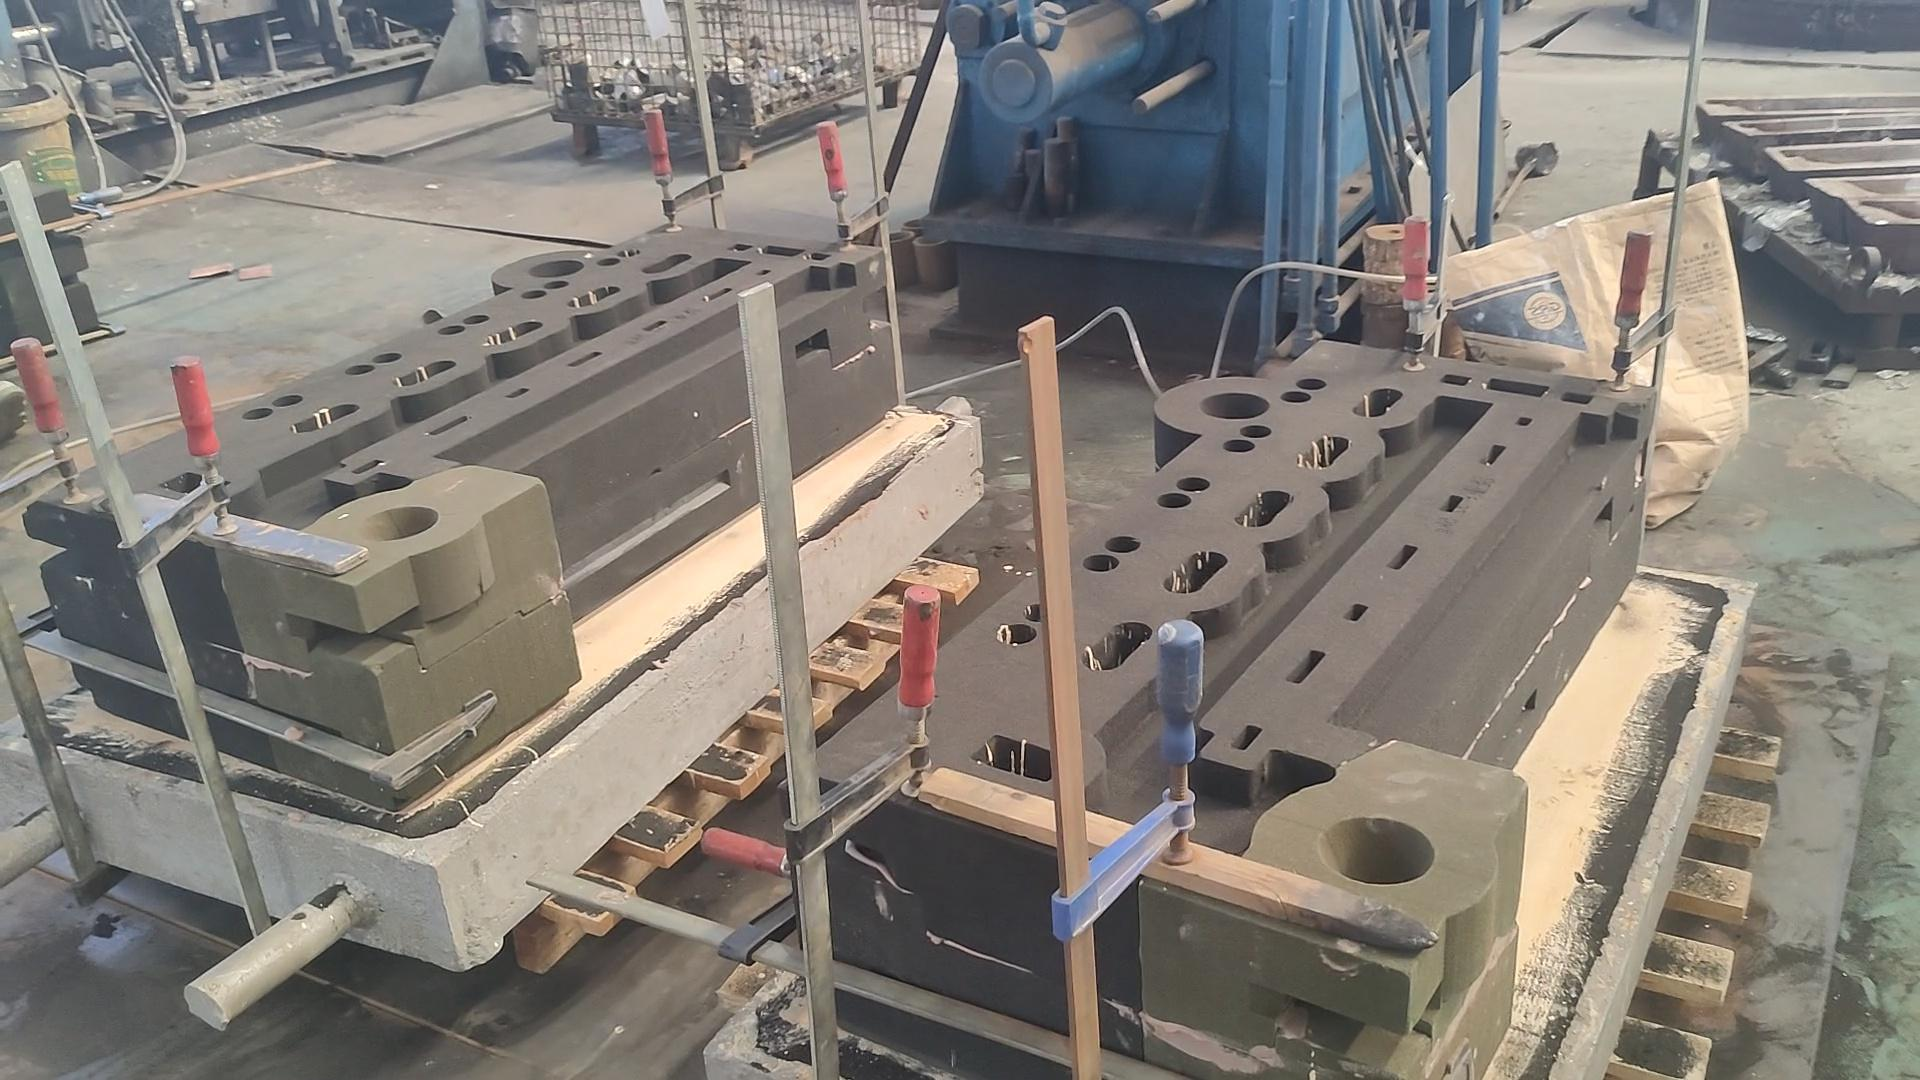pouring hole: (1316, 816, 1435, 884), (353, 505, 440, 541), (1199, 393, 1270, 419), (527, 260, 584, 276), (915, 233, 949, 247), (877, 231, 913, 241), (905, 218, 931, 225)
